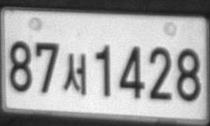1: (93, 44, 118, 97)
2: (148, 46, 172, 99)
4: (118, 46, 145, 99)
7: (35, 41, 59, 93)
8: (176, 47, 202, 102), (8, 40, 32, 92)
서: (63, 53, 87, 95)
